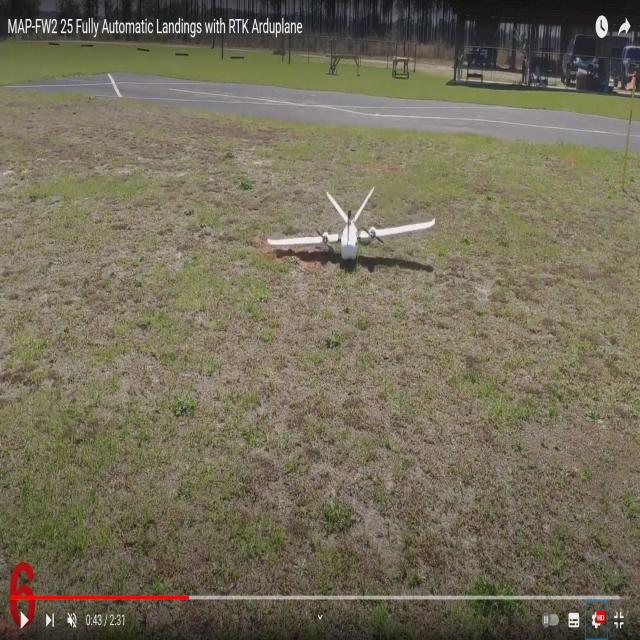iha: (260, 220, 435, 237)
